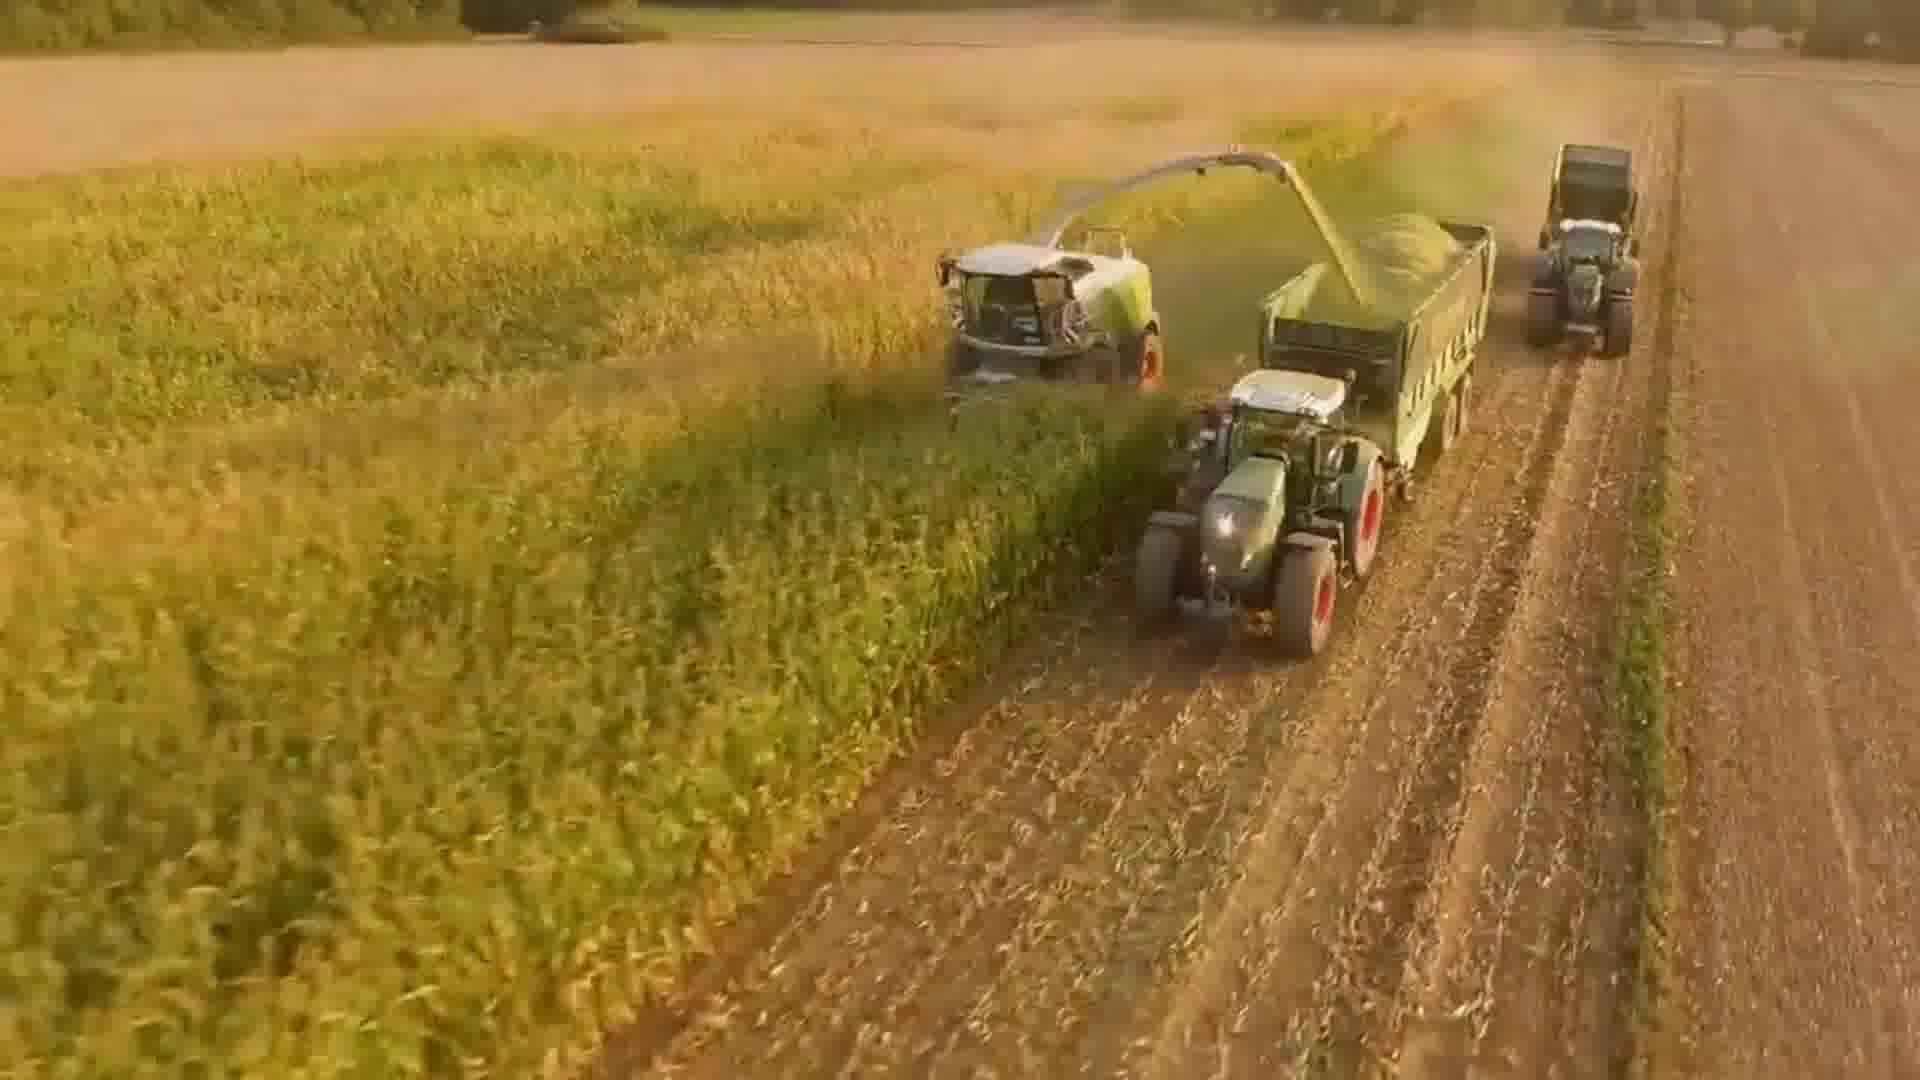combine harvester: (936, 135, 1307, 458)
tractor: (1130, 364, 1387, 659), (1522, 210, 1652, 359)
trailer: (1253, 207, 1505, 476), (1540, 132, 1647, 240)
